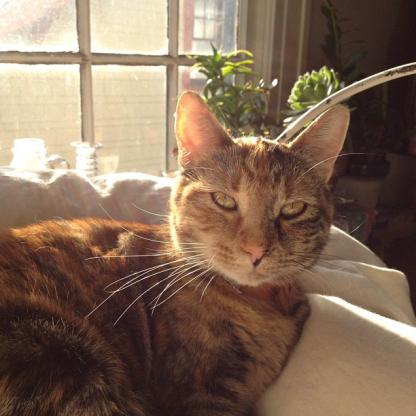Target: (0, 77, 353, 416)
